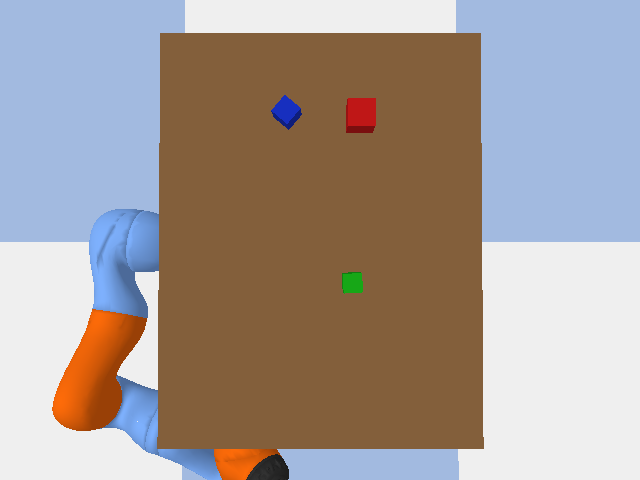blue_obj: (271, 95, 301, 129)
green_obj: (342, 272, 362, 293)
red_obj: (346, 98, 375, 132)
